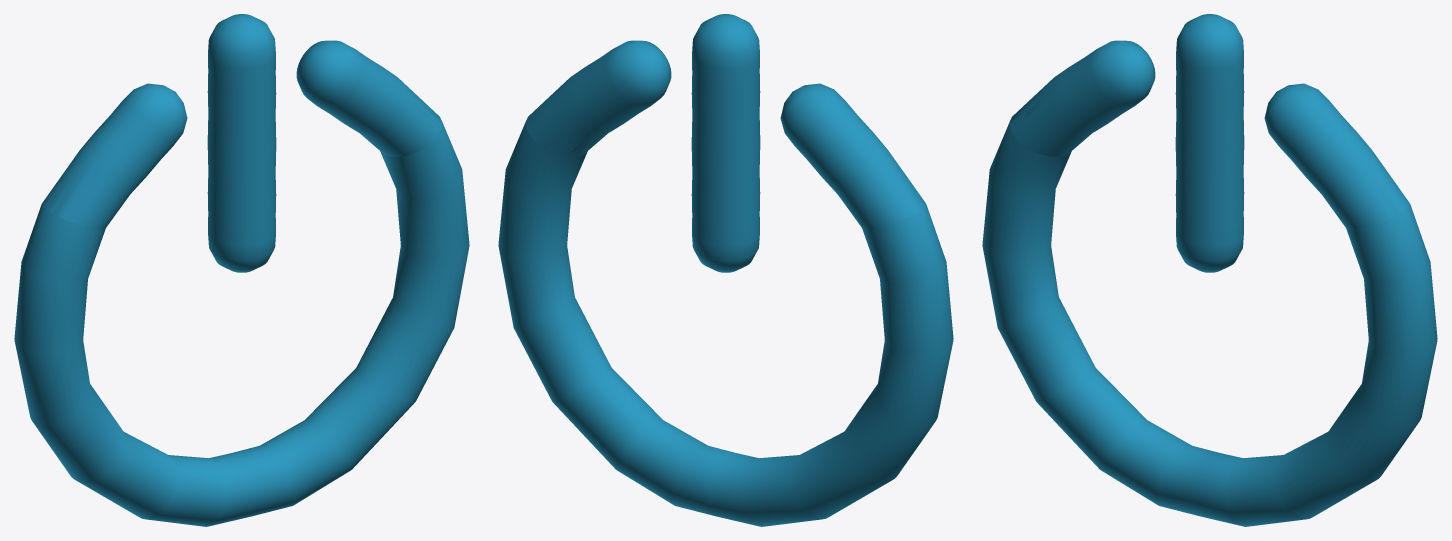
File: START_MARK.fbx
The picture shows the model from 3 angles, left to right: view 1: azimuth 30°, elevation 25°; view 2: azimuth 150°, elevation 25°; view 3: azimuth 330°, elevation 25°; orthographic projection.
Parts seen in each view (by area): view 1: start; view 2: start; view 3: start.
Boxes of the visible parts, x1,y1,x2,y2 form: start: [14, 14, 469, 526]; start: [498, 14, 953, 526]; start: [982, 14, 1437, 526].
Bounding box in the file's own units: 941 × 1003 × 124.
Materials: 1 (1 with a texture image).
